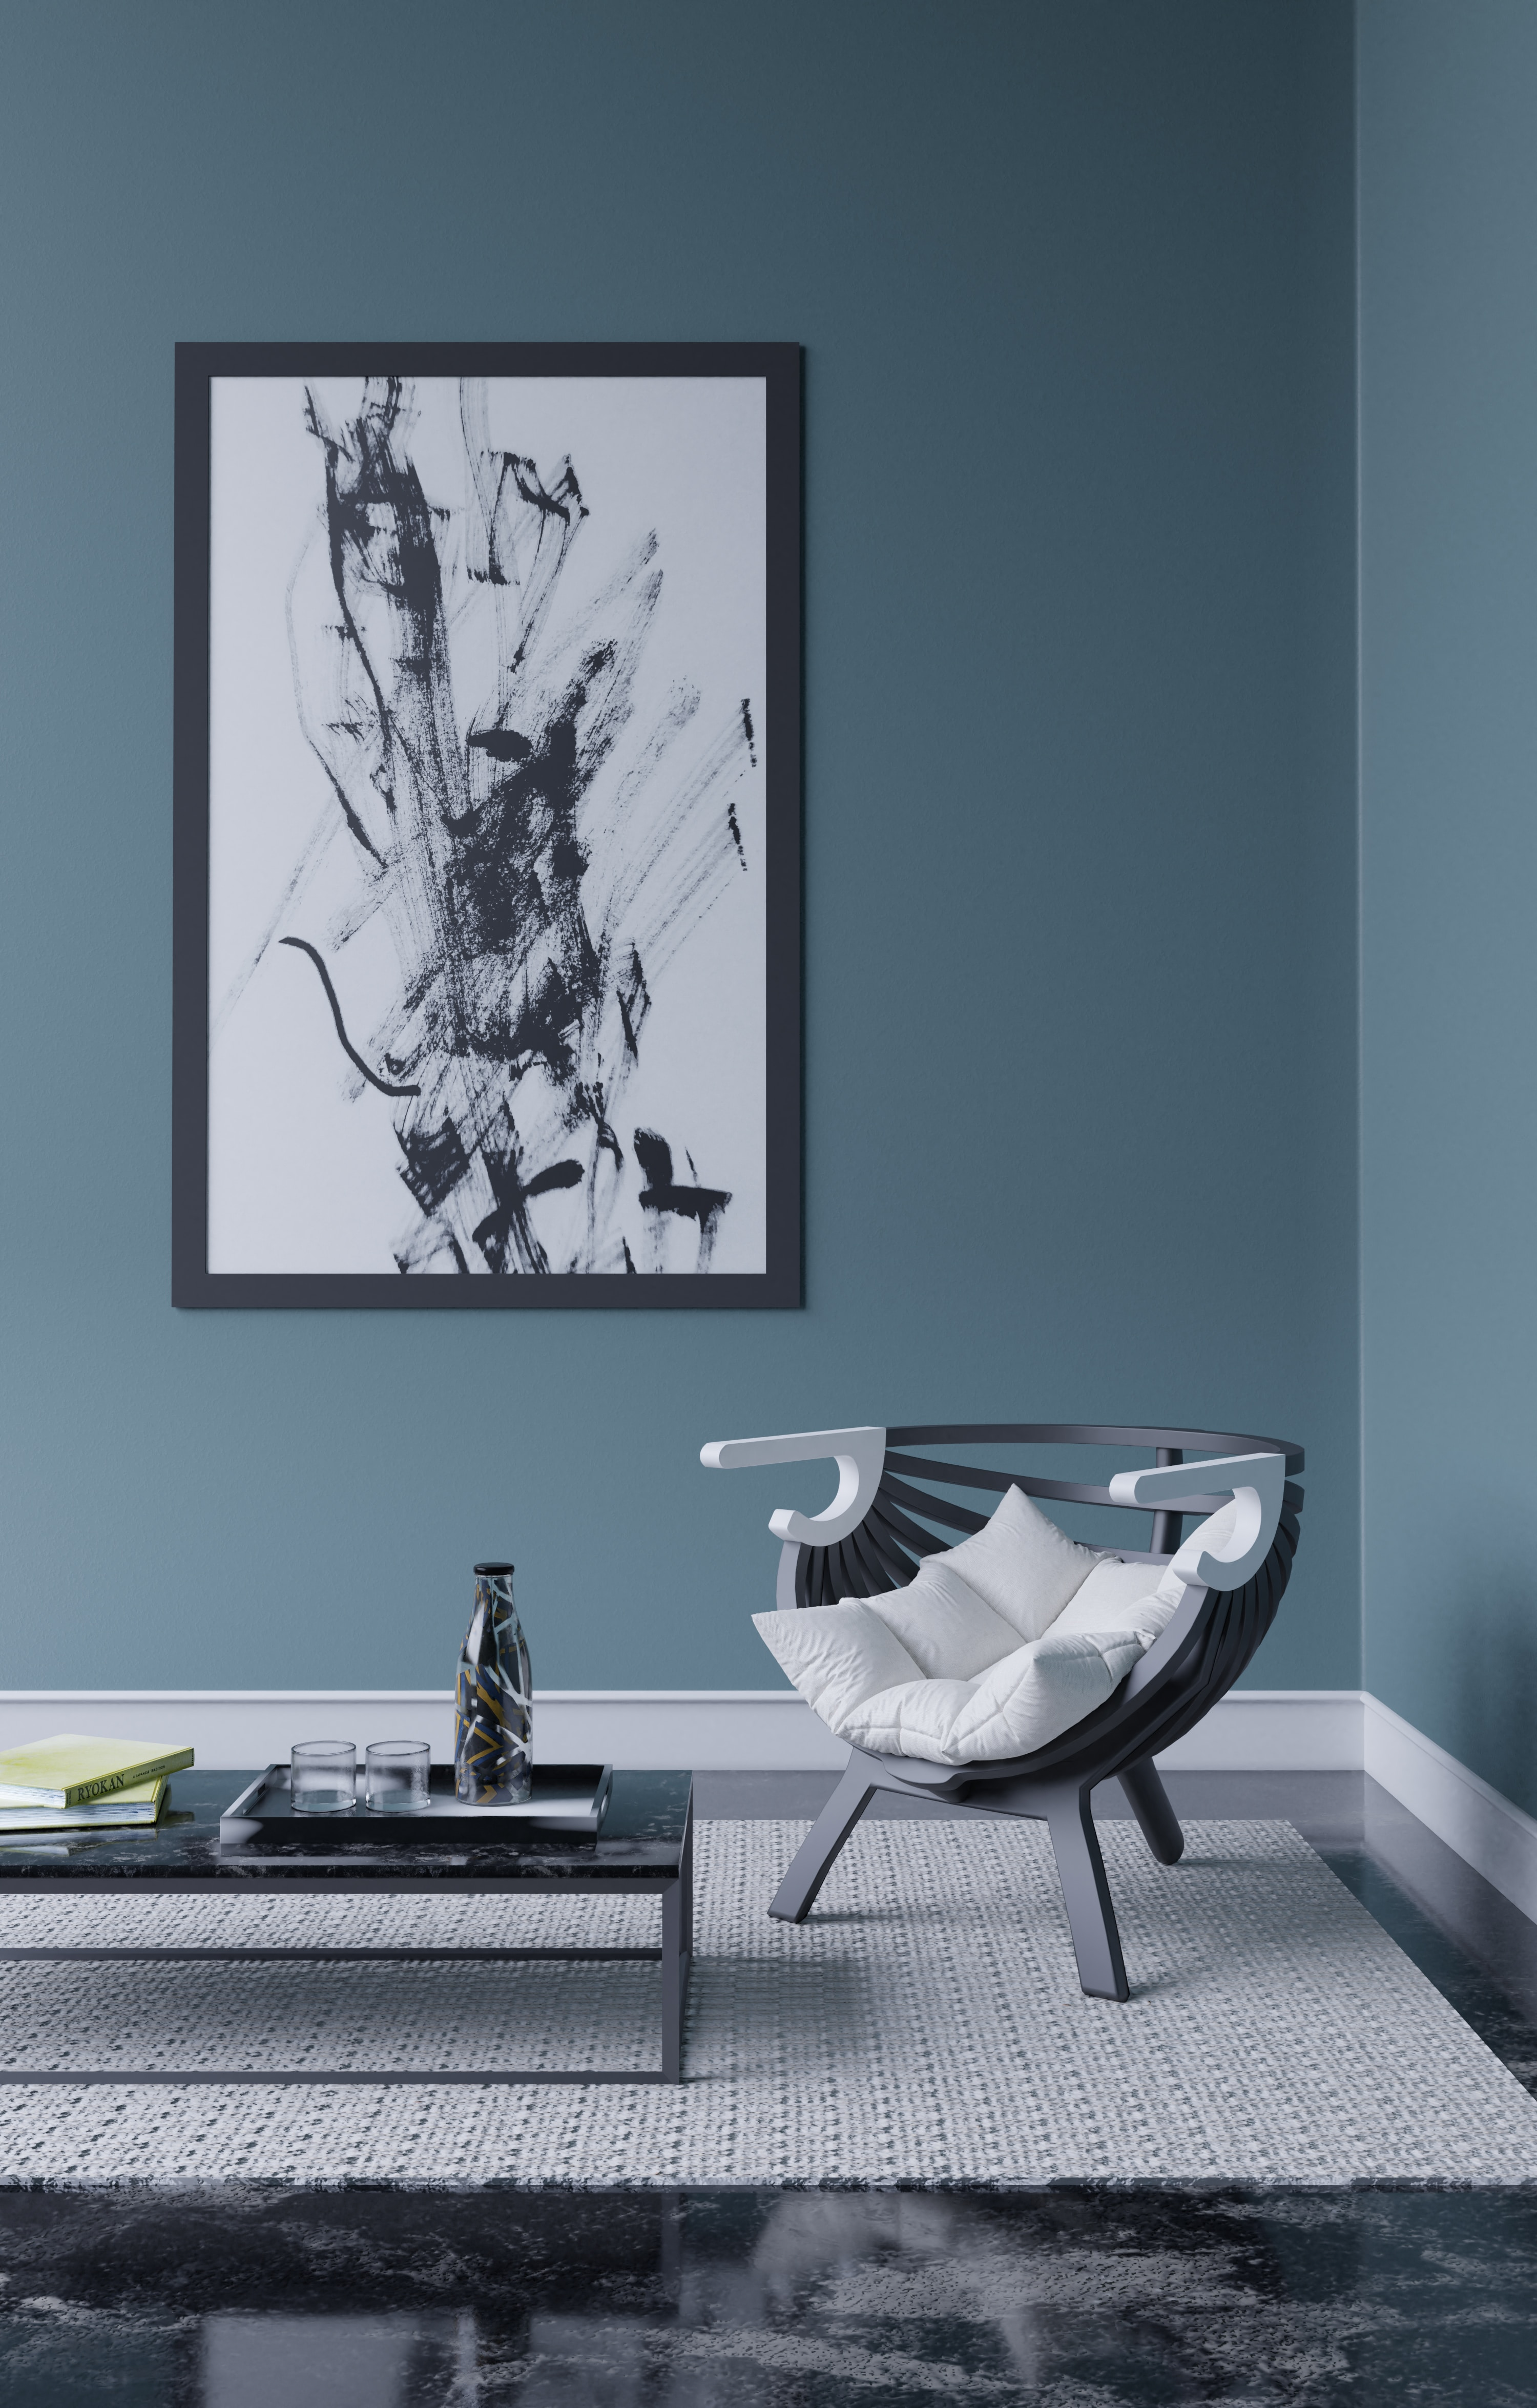Chair: (665, 1409, 1339, 2004)
Painting: (153, 325, 804, 1336)
Table: (0, 1727, 730, 2097)
